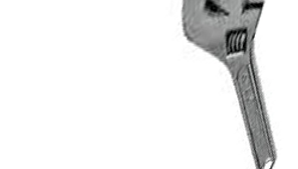wrench: (174, 1, 289, 168)
